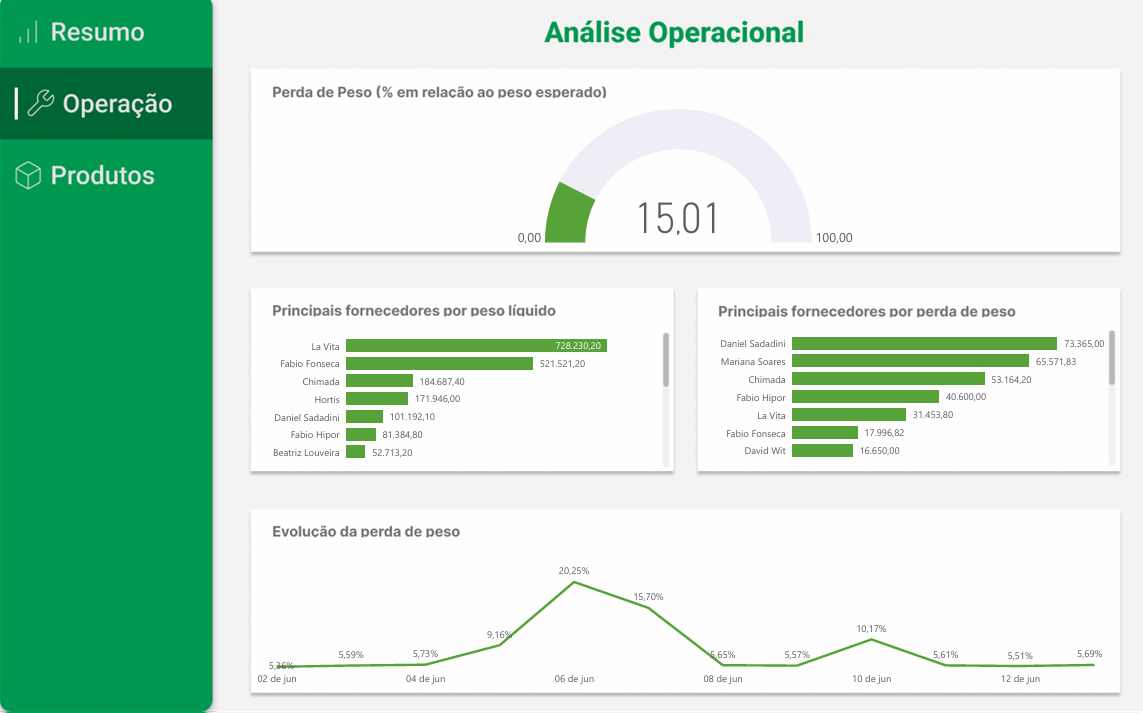

What the dashboard file says about the page in this screenshot:
{"tool":"powerbi","page":{"name":"Analise","canvas":[1440,900],"ordinal":1},"visuals":[{"type":"barChart","fields":{"Category":["Fabrica.Fornecedor"],"Y":["Sum(Fabrica.Peso Líquido (Kg))"]},"box":[322.2,405,527.4,187.2],"z":0},{"type":"gauge","fields":{"MaxValue":["Fabrica.%TotalPeso"],"Y":["Fabrica.%PerdaPeso"]},"box":[322.2,133.2,1085.4,181.8],"z":1000},{"type":"barChart","fields":{"Category":["Fabrica.Fornecedor"],"Y":["Sum(Fabrica.Perda Peso)"]},"box":[881.2,402.4,527.4,187.2],"z":2000},{"type":"lineChart","fields":{"Category":["Fabrica.Data Entr. Fábr."],"Y":["Sum(Fabrica.Perda Peso)"]},"box":[322.9,683.4,1085.4,186.2],"z":4000},{"type":"actionButton","box":[6,178,267.3,90],"z":5000},{"type":"actionButton","box":[5.3,0,267.3,90],"z":6000}]}

Visuals, with their boxes on the page's 1440x900 design canvas (x1, y1, x2, y2). These are canvas units, not pixel positions in the 1143x713 screenshot, which may show the page scaled, cropped or inside an application window:
barChart - Fabrica.Fornecedor x Sum(Fabrica.Peso Líquido (Kg)): rect(322, 405, 850, 592)
gauge - Fabrica.%TotalPeso x Fabrica.%PerdaPeso: rect(322, 133, 1408, 315)
barChart - Fabrica.Fornecedor x Sum(Fabrica.Perda Peso): rect(881, 402, 1409, 590)
lineChart - Fabrica.Data Entr. Fábr. x Sum(Fabrica.Perda Peso): rect(323, 683, 1408, 870)
actionButton: rect(6, 178, 273, 268)
actionButton: rect(5, 0, 273, 90)
